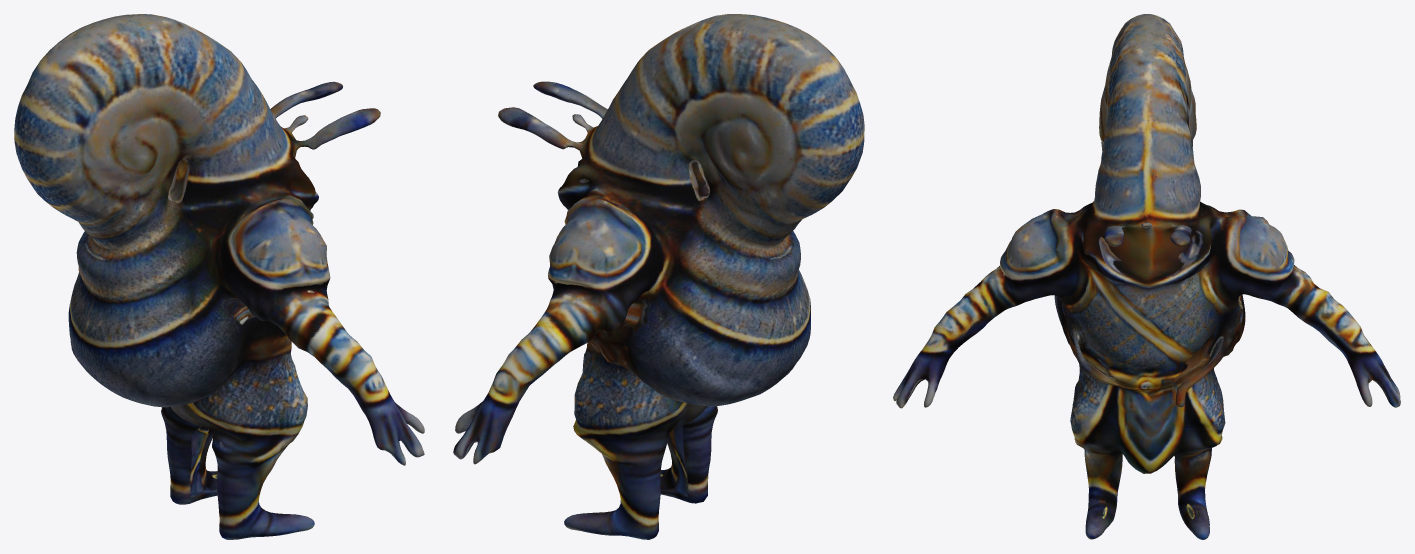
The model's file is SnailKnight.fbx.
3 renders of one model, left to right at view 1: azimuth 30°, elevation 25°; view 2: azimuth 150°, elevation 25°; view 3: azimuth 270°, elevation 25°, orthographic. The views are drawn at different scales.
Visible parts, largest first — view 1: mesh; view 2: mesh; view 3: mesh.
Part boxes in pixels (bbox=[...]): mesh: bbox=[14, 14, 424, 539]; mesh: bbox=[453, 14, 864, 539]; mesh: bbox=[893, 14, 1400, 539].
Bounding box in the file's own units: 66.2 × 96.84 × 99.44.
